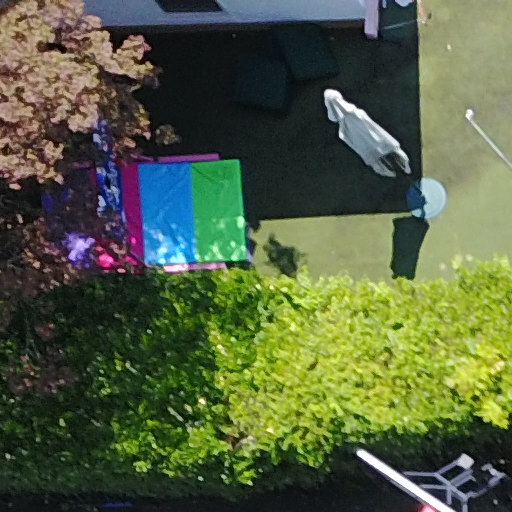toy: (18, 120, 267, 308)
